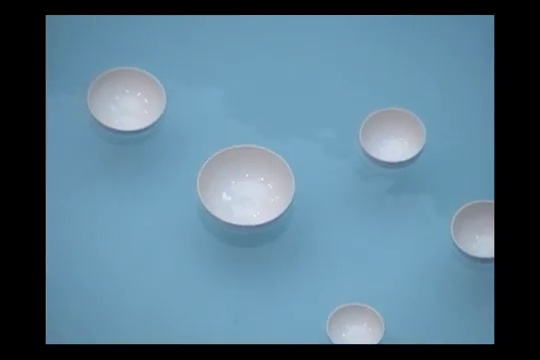bowl: (196, 143, 296, 230), (87, 67, 166, 136), (358, 107, 427, 167), (451, 199, 493, 264), (326, 302, 384, 343)
